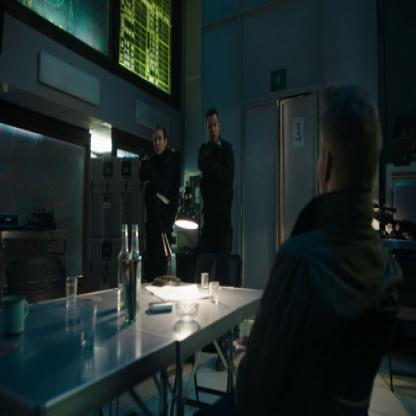Gun: (368, 193, 416, 245), (136, 144, 147, 165)
